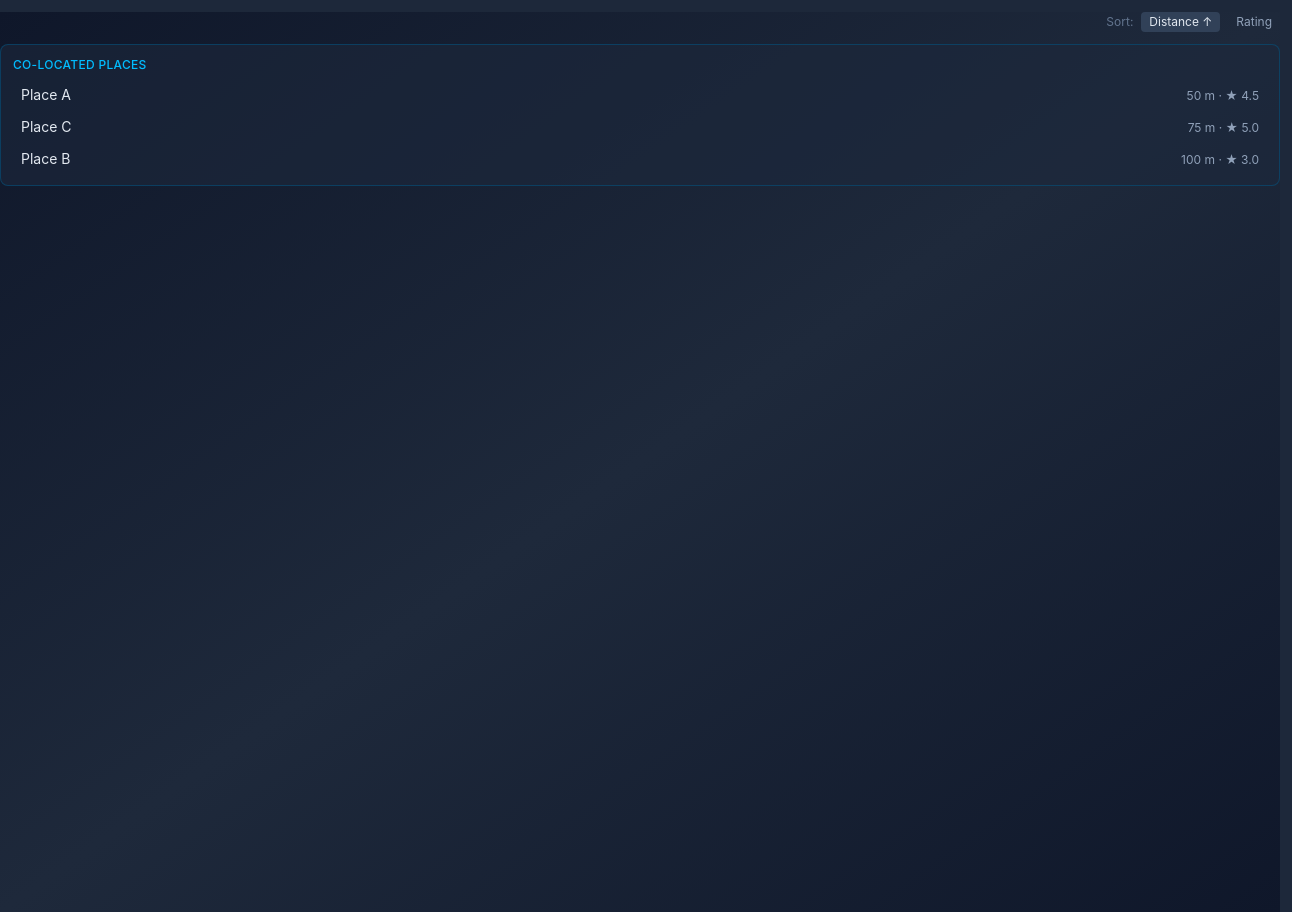
Test: NearbyList sort toggle › switches to rating descending when rating is clicked
The width and height of the screenshot is (1292, 912).
Click the button "Rating". click: (1254,22)
box: [1228,12,1280,32]
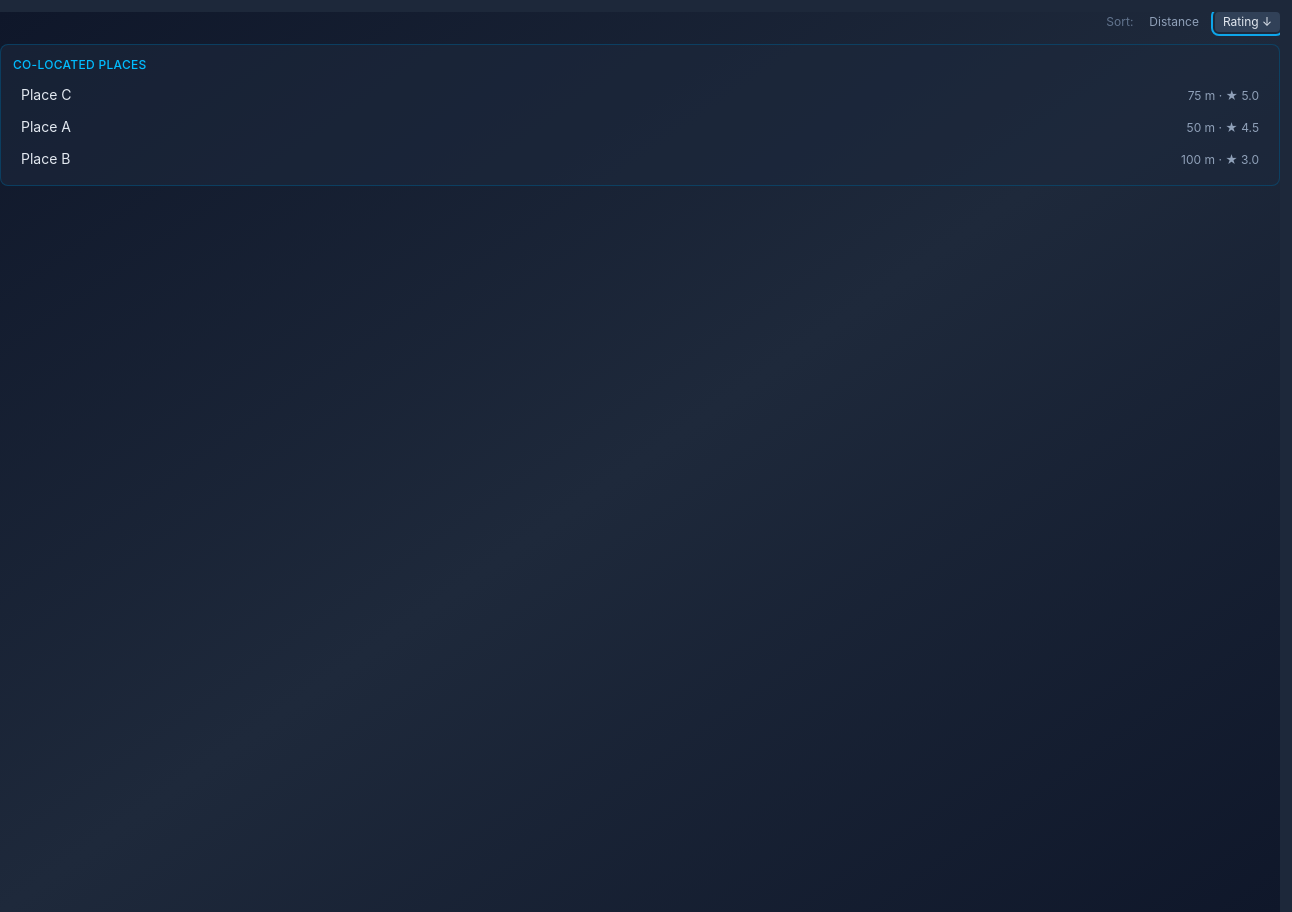
Expected: the list item "Place C 75 m · ★ 5.0" is shown, [13,81,1267,109]
Expected: the button "Rating ↓" is shown, [1215,12,1280,32]
